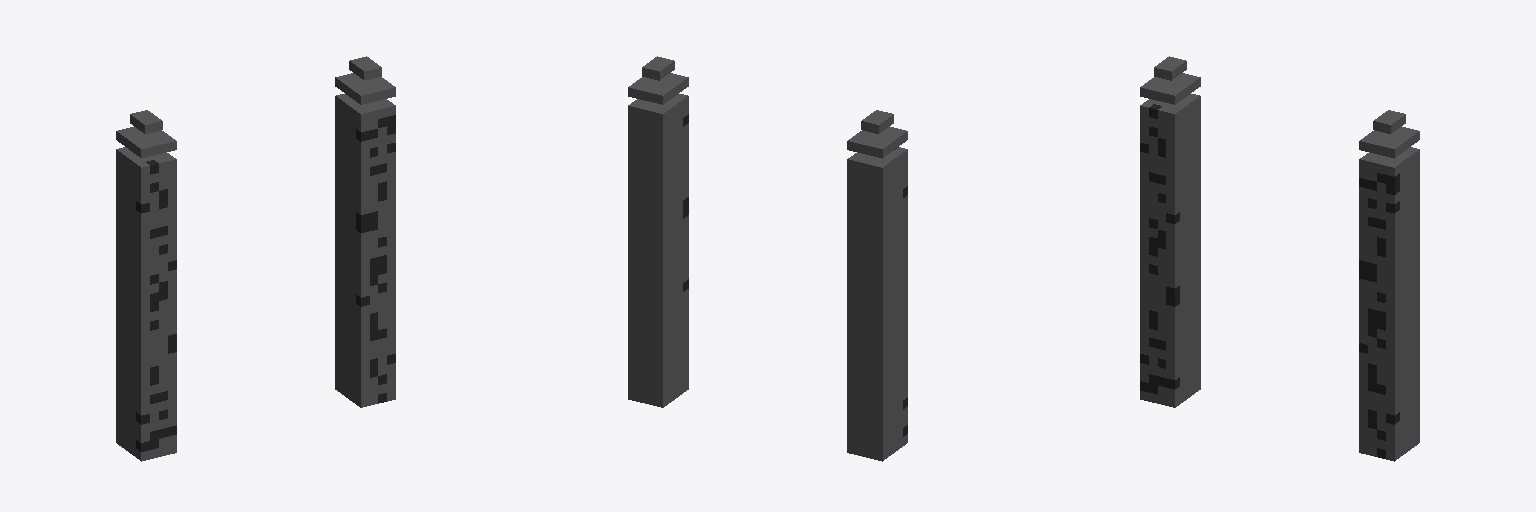
3 renders of one model, left to right at view 1: azimuth 30°, elevation 25°; view 2: azimuth 150°, elevation 25°; view 3: azimuth 330°, elevation 25°, orthographic.
Visible parts, largest first — view 1: space_portal1; view 2: space_portal1; view 3: space_portal1.
Boxes of the visible parts, <box> form: space_portal1: <box>116,56,395,461</box>; space_portal1: <box>628,56,907,461</box>; space_portal1: <box>1140,56,1419,461</box>.
Size of the model in its own units: 29 by 36 by 5.
Materials: 1 (1 with a texture image).